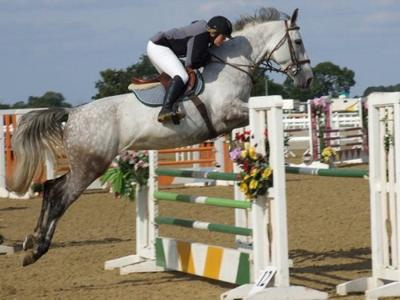person: (147, 14, 235, 122)
